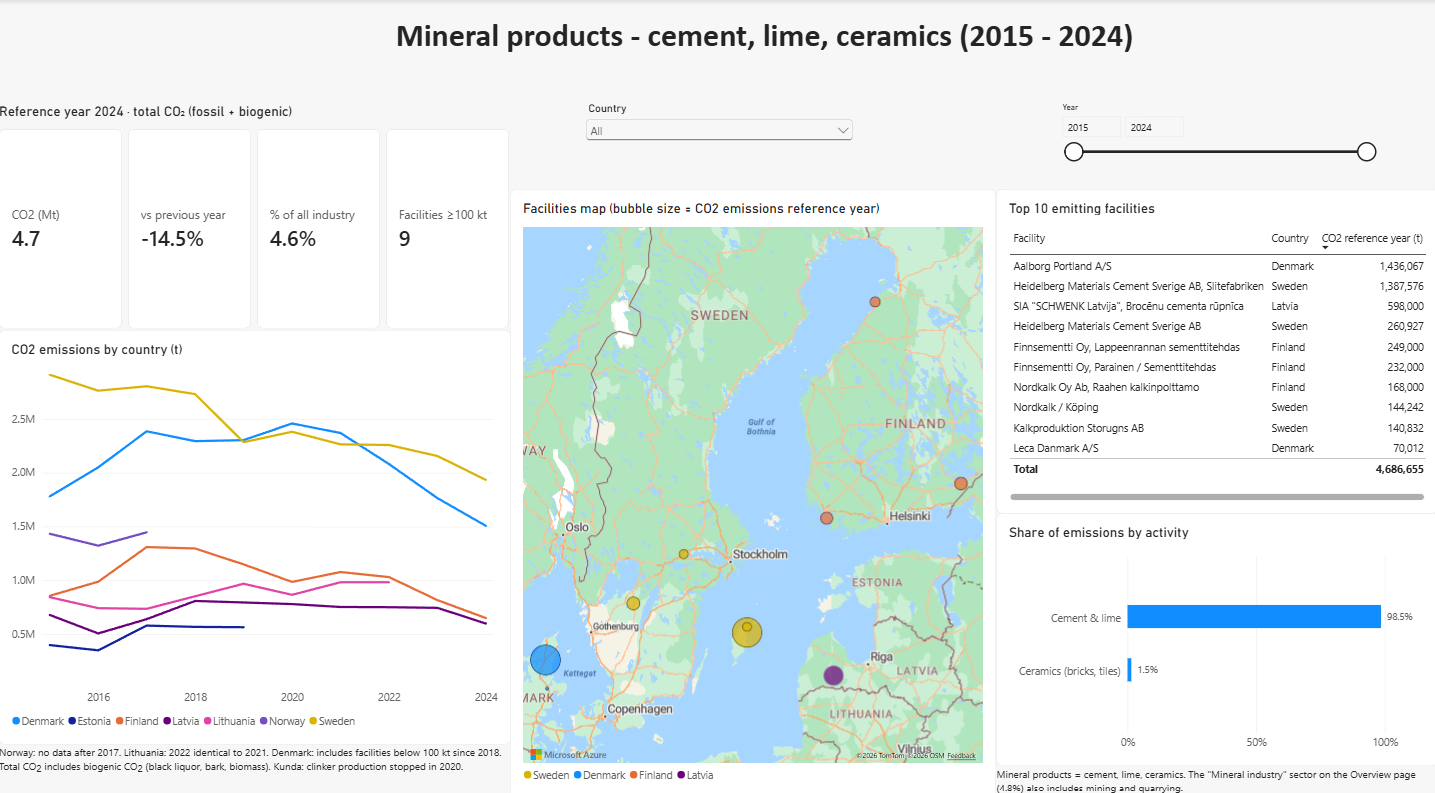

The page's visual inventory and layout, read from the dashboard file:
{"tool":"powerbi","page":{"name":"Mineral industry","canvas":[1920,1080],"ordinal":1},"visuals":[{"type":"textbox","box":[112.5,35,1807.5,87.5],"z":0},{"type":"cardVisual","fields":{"Data":["_Measures.Emissions ref year","_Measures.YoY ref year","_Measures.Sites ref year","_Measures.Share of total industrial CO2"]},"box":[0,152.5,602.5,302.5],"z":1000},{"type":"lineChart","title":"CO2 emissions by activity (t)","fields":{"Category":["Years.Year"],"Series":["Sites.Activity"],"Y":["_Measures.Emissions (t)"]},"box":[0,455,602.5,552.5],"z":2000},{"type":"barChart","title":"Share of emissions by activity","fields":{"Category":["Sites.Activity"],"Y":["_Measures.Activity share"]},"box":[1330,700,590,337.5],"z":3000},{"type":"azureMap","title":"Facilities map (bubble size = CO2 emissions)","fields":{"Series":["Sites.countryName"],"Size":["_Measures.Emissions (t)"],"X":["Sites.Lon_map"],"Y":["Sites.Lat_map"]},"box":[602.5,267.5,727.5,812.5],"z":4000},{"type":"tableEx","title":"Top 10 emitting facilities","fields":{"Values":["Sites.facilityName","Sites.countryName","_Measures.Emissions ref year"]},"box":[1330,267.5,590,432.5],"z":5000},{"type":"slicer","fields":{"Values":["Sites.countryName"]},"box":[777.5,152.5,365,112.5],"z":6000},{"type":"slicer","fields":{"Values":["Years.Year"]},"box":[1410,152.5,430,115],"z":8000},{"type":"textbox","box":[0,1037.5,950,42.5],"z":9000}]}

Visuals, with their boxes in screenshot pixels (x1, y1, x2, y2), scaled from the page's 1920x1080 canvas onto the 1435x793 screenshot:
textbox: box=[84, 26, 1434, 90]
cardVisual - _Measures.Emissions ref year x _Measures.YoY ref year: box=[0, 112, 450, 334]
"CO2 emissions by activity (t)" lineChart: box=[0, 334, 450, 740]
"Share of emissions by activity" barChart: box=[994, 514, 1434, 762]
"Facilities map (bubble size = CO2 emissions)" azureMap: box=[450, 196, 994, 792]
"Top 10 emitting facilities" tableEx: box=[994, 196, 1434, 514]
slicer - Sites.countryName: box=[581, 112, 854, 195]
slicer - Years.Year: box=[1054, 112, 1375, 196]
textbox: box=[0, 762, 710, 792]
